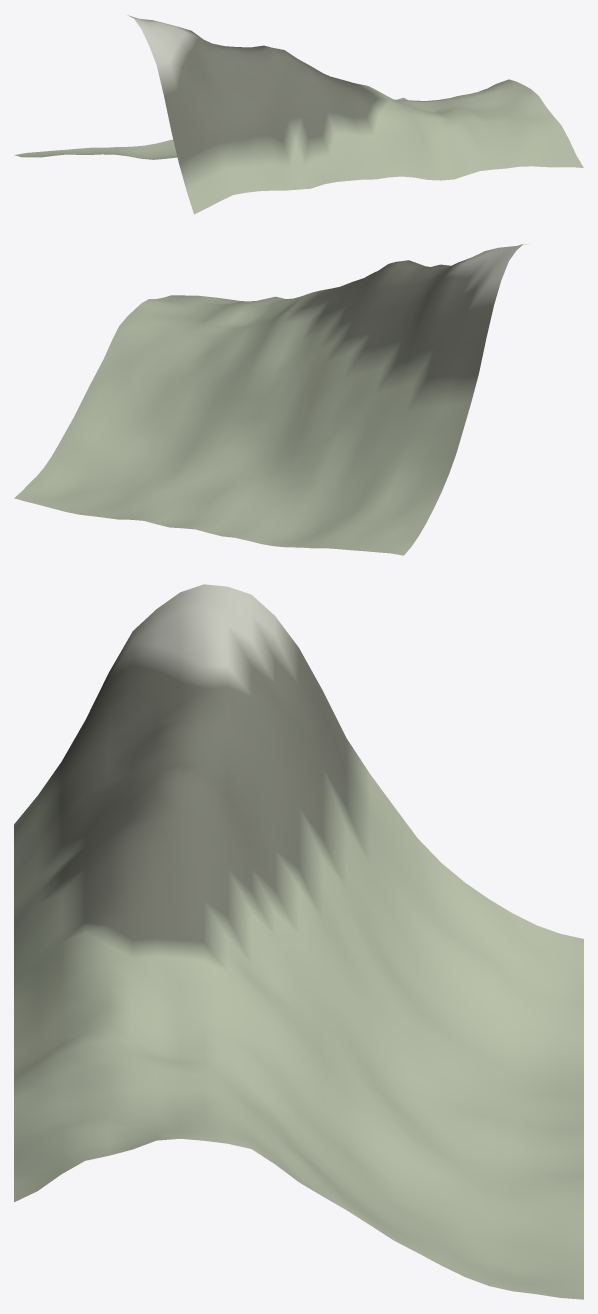
3 renders of one model, top to bottom at view 1: azimuth 30°, elevation 25°; view 2: azimuth 150°, elevation 25°; view 3: azimuth 270°, elevation 25°, orthographic. The views are drawn at different scales.
Visible parts, largest first — view 1: world-ground/60-168; view 2: world-ground/60-168; view 3: world-ground/60-168.
Boxes of the visible parts, x1,y1,x2,y2 form: world-ground/60-168: (14,15,583,214); world-ground/60-168: (14,244,525,555); world-ground/60-168: (14,584,583,1299).
Bounding box in the file's own units: 37.5 × 24.15 × 30.
